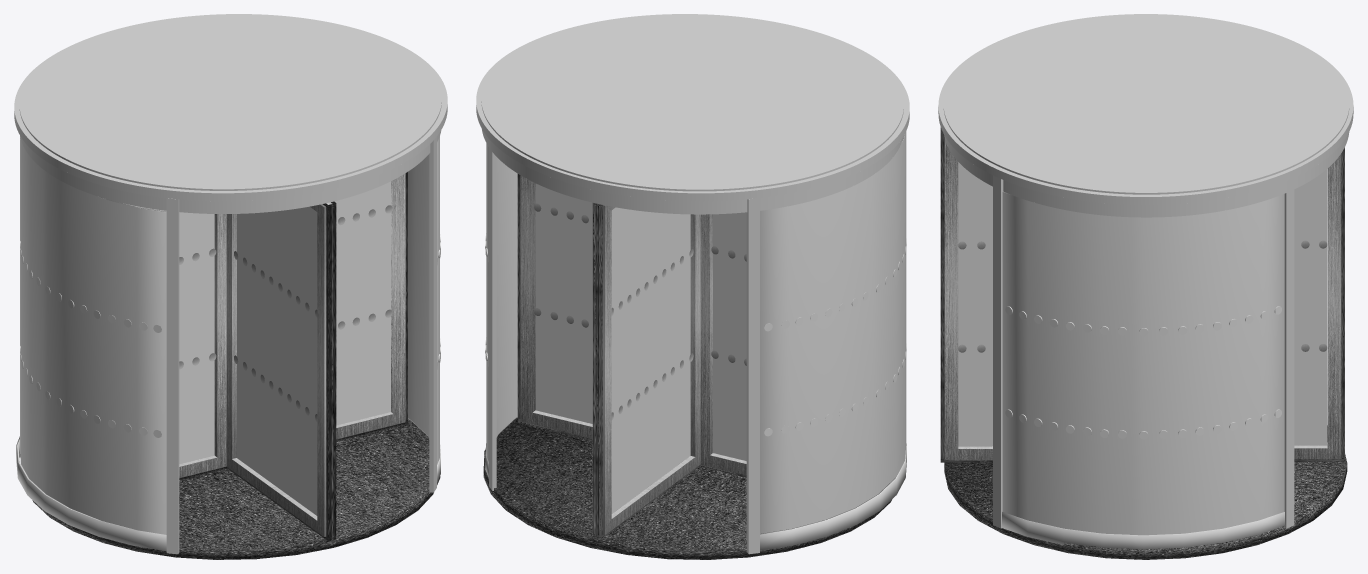
The model's file is RevolvingDoor.fbx.
The picture shows the model from 3 angles, left to right: view 1: azimuth 30°, elevation 25°; view 2: azimuth 150°, elevation 25°; view 3: azimuth 270°, elevation 25°; orthographic projection.
Parts seen in each view (by area): view 1: Ceiling, Doors, Glass, Carpet, Glass2, Top, Pillar, Pillar4, Base, Dots; view 2: Ceiling, Doors, Glass, Carpet, Glass2, Top, Pillar2, Base, Pillar3, Dots; view 3: Glass2, Ceiling, Doors, Carpet, Top, Base2, Pillar3, Pillar4, Dots.
Boxes of the visible parts, x1,y1,x2,y2 form: Ceiling: (19, 14, 441, 213); Doors: (123, 172, 407, 541); Glass: (20, 136, 166, 534); Carpet: (32, 419, 440, 559); Glass2: (408, 136, 439, 464); Top: (14, 14, 447, 201); Pillar: (166, 198, 179, 554); Pillar4: (429, 137, 436, 492); Base: (16, 436, 166, 550); Dots: (20, 234, 440, 437); Ceiling: (481, 14, 903, 214); Doors: (517, 174, 746, 539); Glass: (760, 131, 906, 533); Carpet: (483, 418, 891, 559); Glass2: (486, 143, 517, 462); Top: (476, 14, 909, 201); Pillar2: (746, 198, 759, 554); Base: (760, 443, 906, 550); Pillar3: (489, 148, 496, 490); Dots: (485, 233, 906, 436); Glass2: (1002, 191, 1284, 535); Ceiling: (943, 14, 1349, 217); Doors: (940, 127, 1344, 462); Carpet: (944, 425, 1347, 559); Top: (938, 14, 1353, 204); Base2: (1002, 512, 1284, 549); Pillar3: (1284, 190, 1294, 528); Pillar4: (993, 175, 1003, 528); Dots: (1005, 306, 1281, 439).
Bounding box in the file's own units: 378 × 354 × 362.
